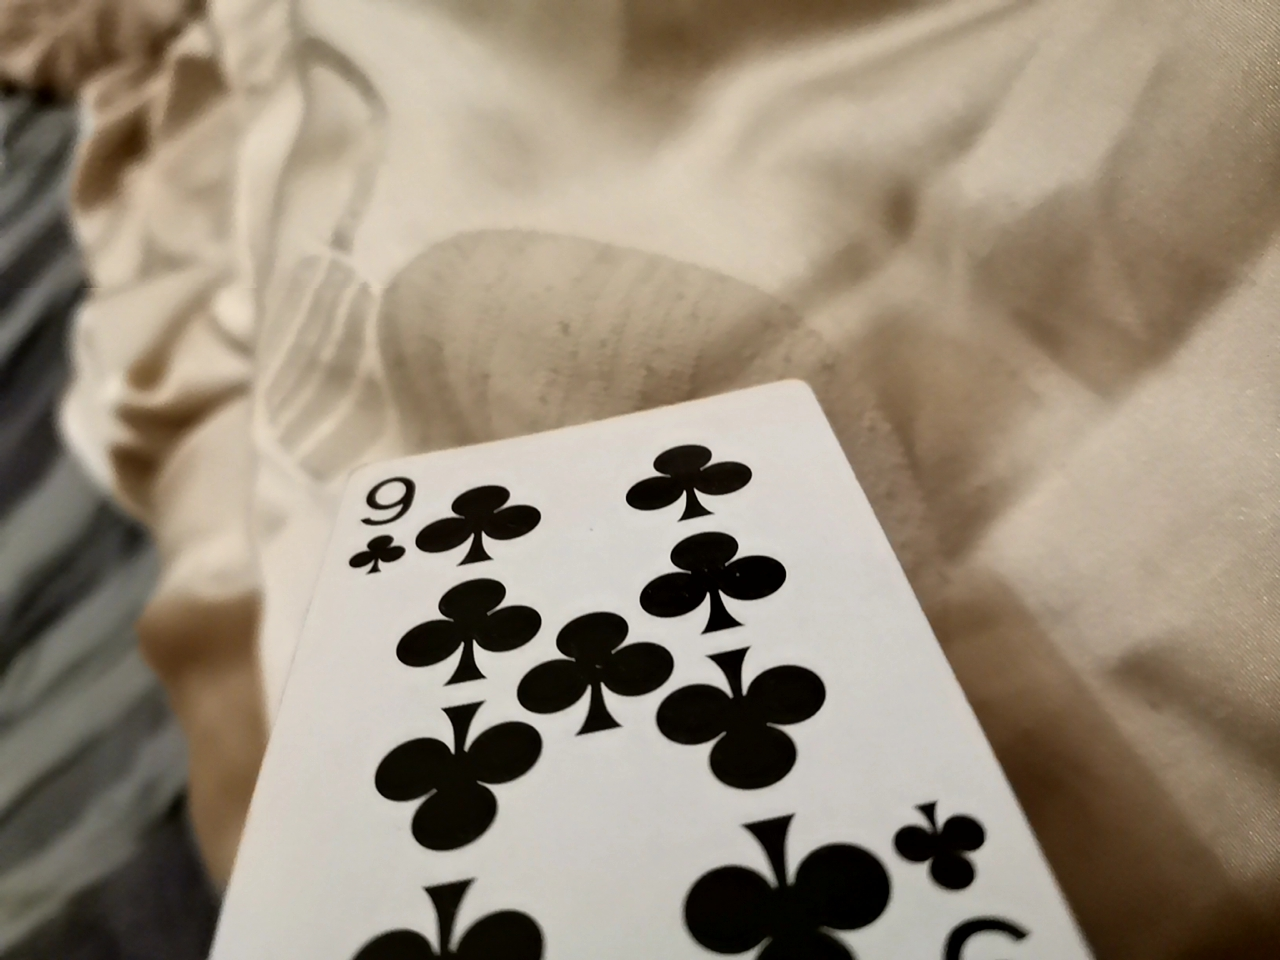mh 9: (158, 362, 1073, 951)
